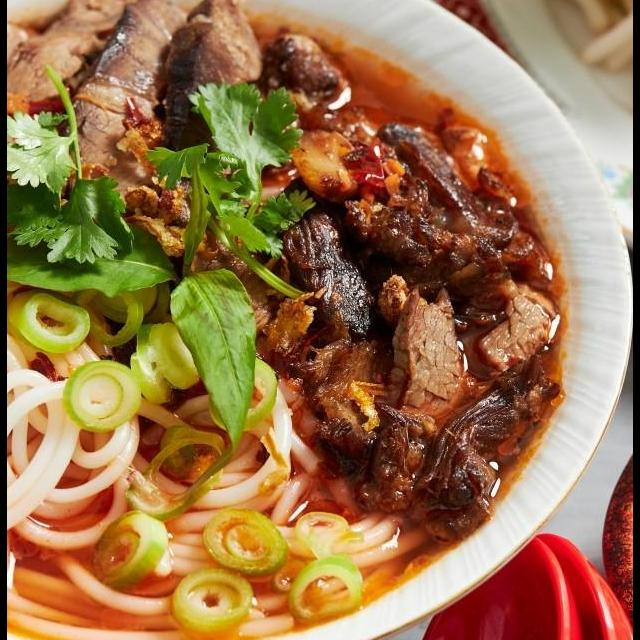bun: (8, 289, 442, 640)
bun bo: (15, 0, 604, 627)
rau ram: (8, 152, 267, 456)
thit bo: (52, 0, 209, 217), (147, 0, 281, 177), (368, 284, 476, 460), (8, 0, 156, 119), (457, 272, 574, 390)
